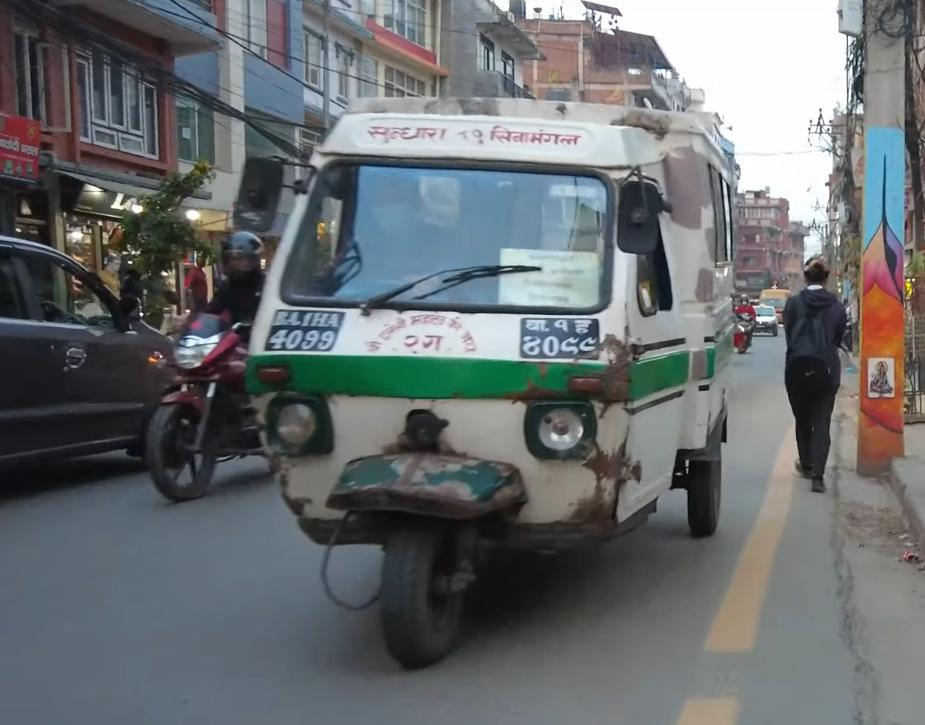bike: (141, 281, 274, 500)
car: (0, 224, 181, 481)
tempo: (232, 83, 731, 673)
